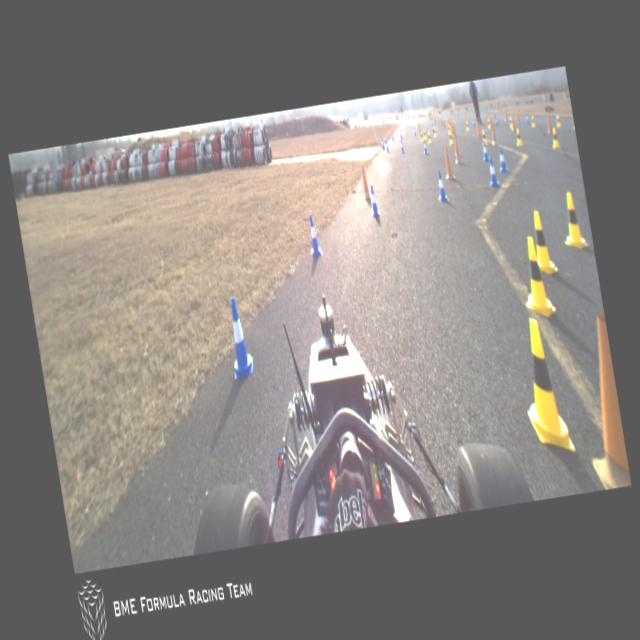blue_cone: (222, 295, 256, 380), (305, 215, 322, 256), (435, 170, 448, 202), (368, 185, 380, 217), (487, 158, 499, 186), (496, 147, 508, 172), (480, 140, 490, 162), (422, 140, 428, 154), (400, 140, 405, 153), (385, 140, 389, 152), (526, 114, 530, 125), (494, 116, 498, 126), (472, 118, 476, 128), (381, 138, 384, 150), (391, 132, 394, 142), (413, 126, 416, 136), (400, 130, 402, 139), (432, 123, 434, 132)
yellow_cone: (514, 314, 576, 463), (516, 234, 558, 320), (528, 209, 559, 275), (558, 190, 590, 250), (550, 127, 561, 149), (515, 128, 523, 146), (480, 128, 488, 144), (530, 114, 536, 127), (426, 131, 432, 143), (556, 115, 562, 126), (448, 131, 453, 144), (508, 116, 514, 126), (422, 129, 427, 140), (466, 120, 470, 131), (487, 117, 491, 128), (419, 132, 424, 140), (447, 124, 451, 134), (433, 128, 437, 136)
